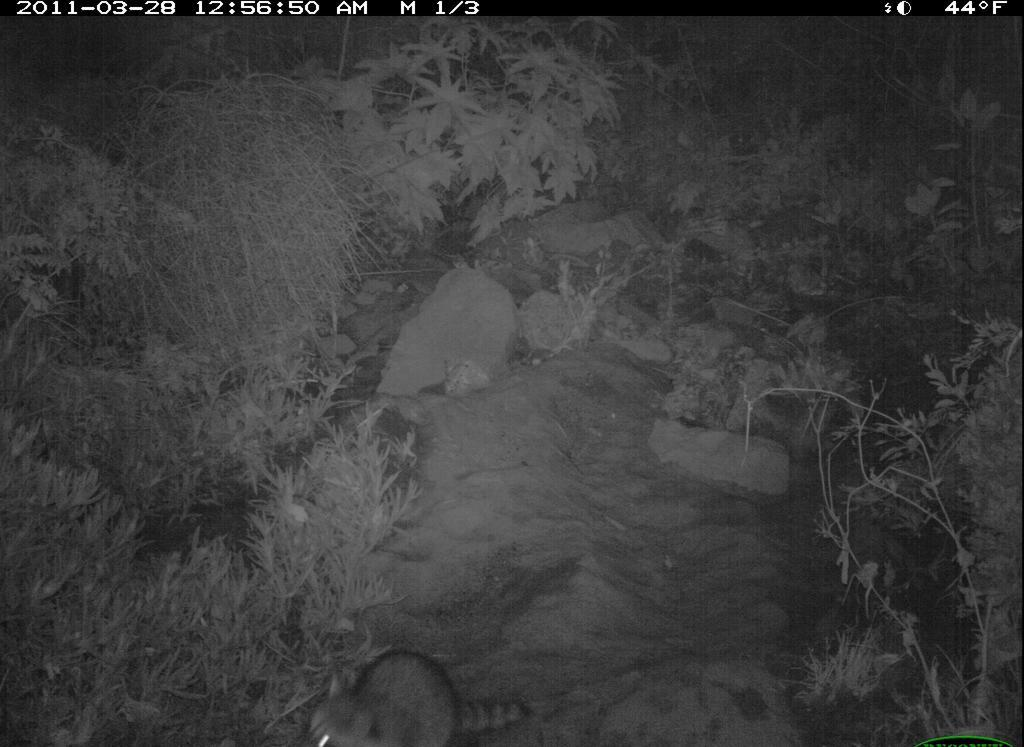raccoon: (290, 641, 527, 747)
